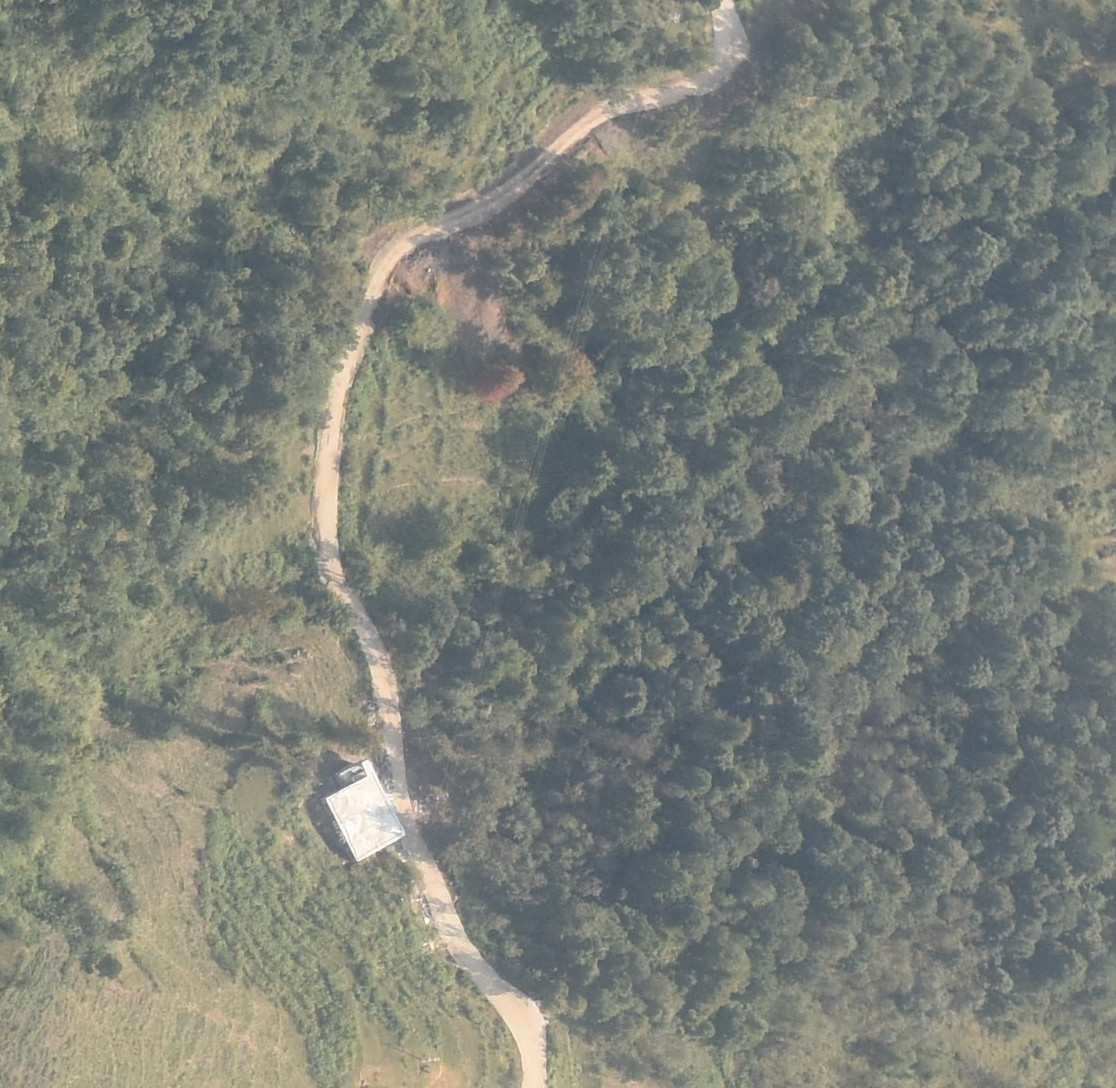building: (324, 759, 408, 865)
cable-tower: (416, 1055, 443, 1066), (408, 896, 425, 904)
